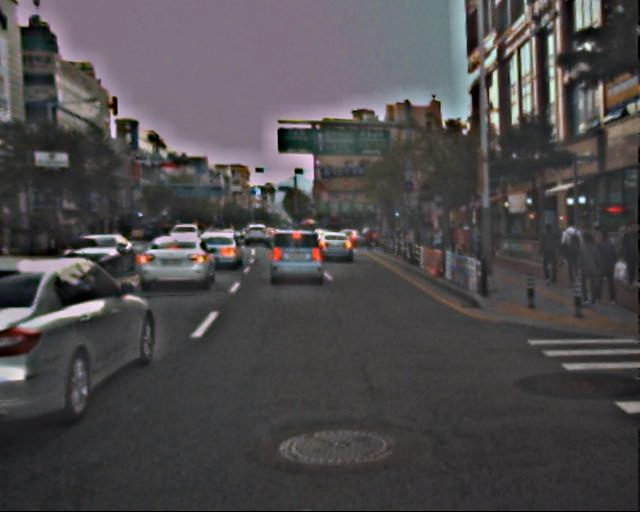person: (573, 234, 603, 306), (587, 230, 617, 302), (428, 225, 483, 260), (616, 223, 640, 288), (558, 221, 583, 282), (535, 223, 559, 282)
